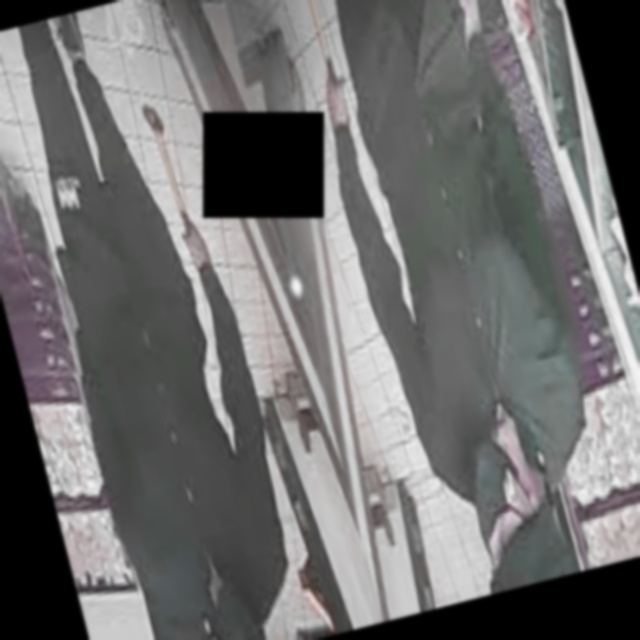gun: (124, 89, 220, 275), (265, 0, 357, 121)
